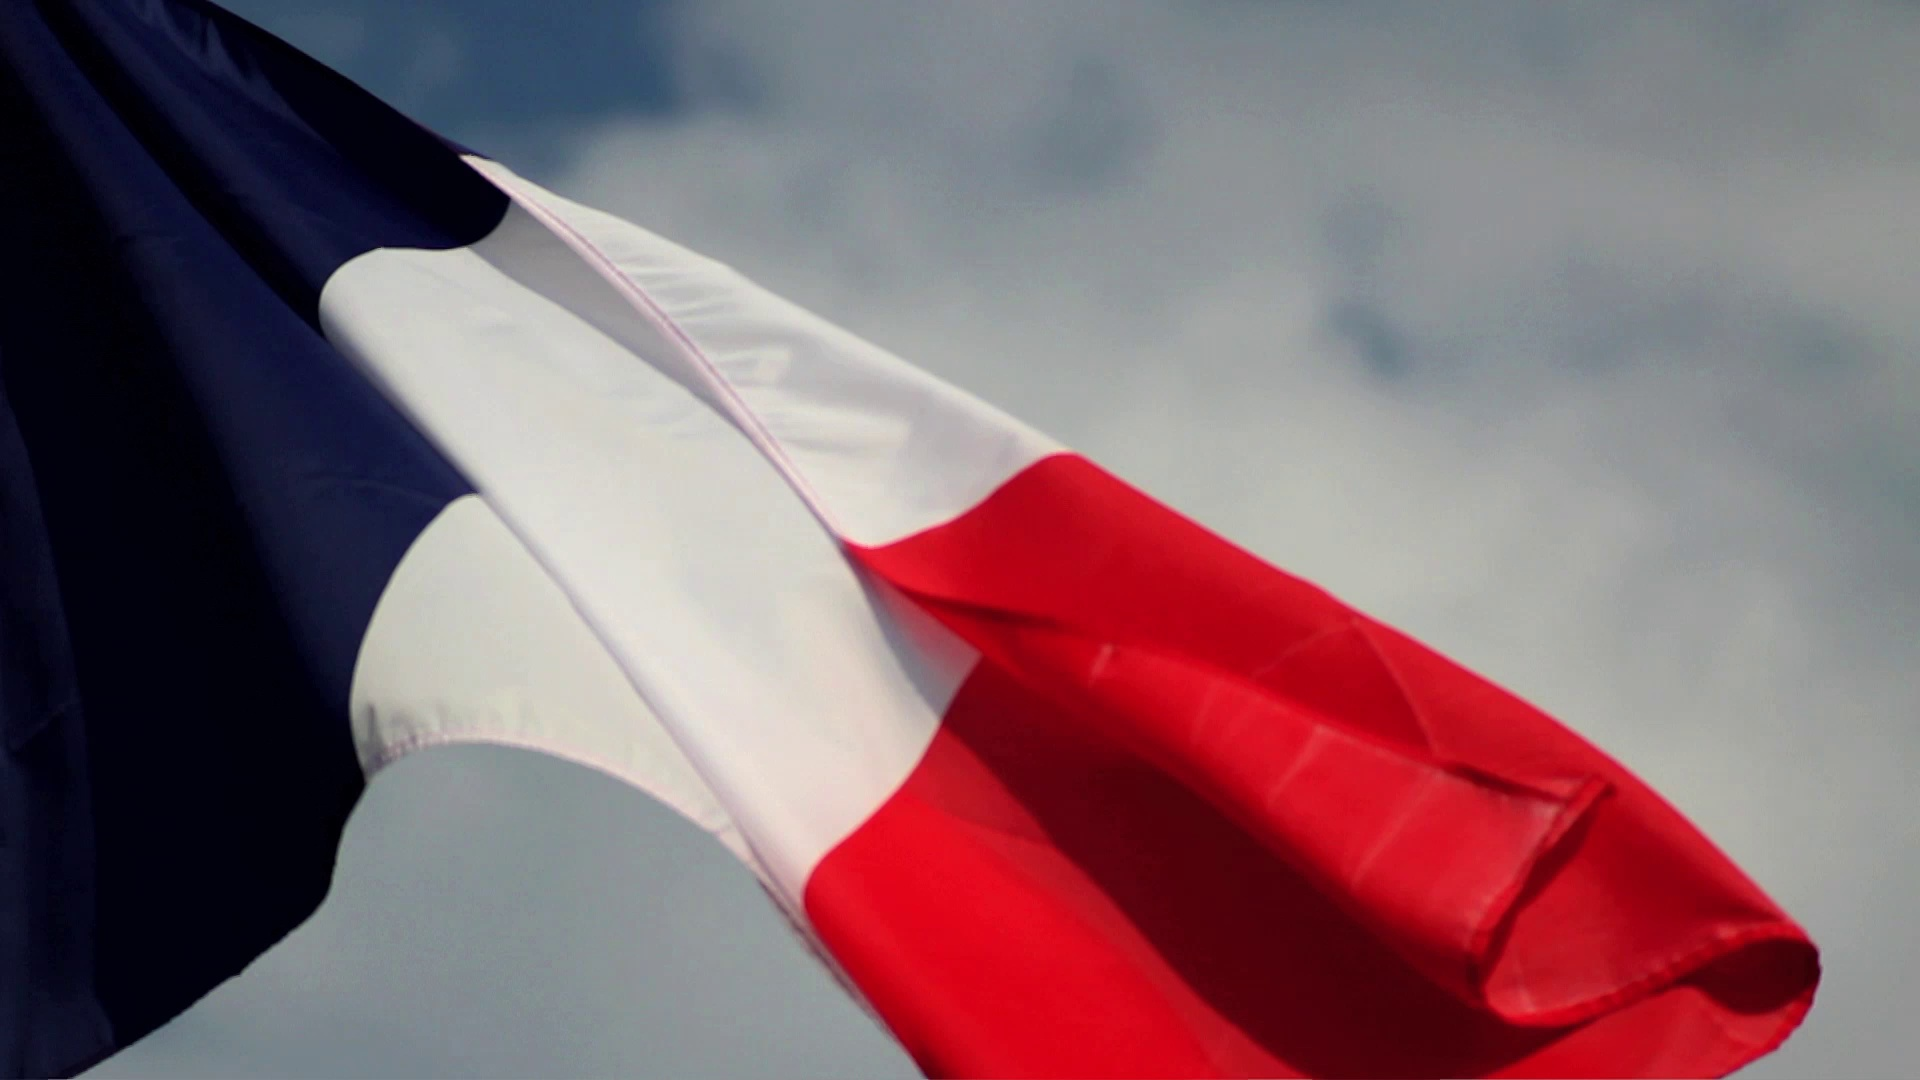French Flag: (3, 1, 1825, 1080)
